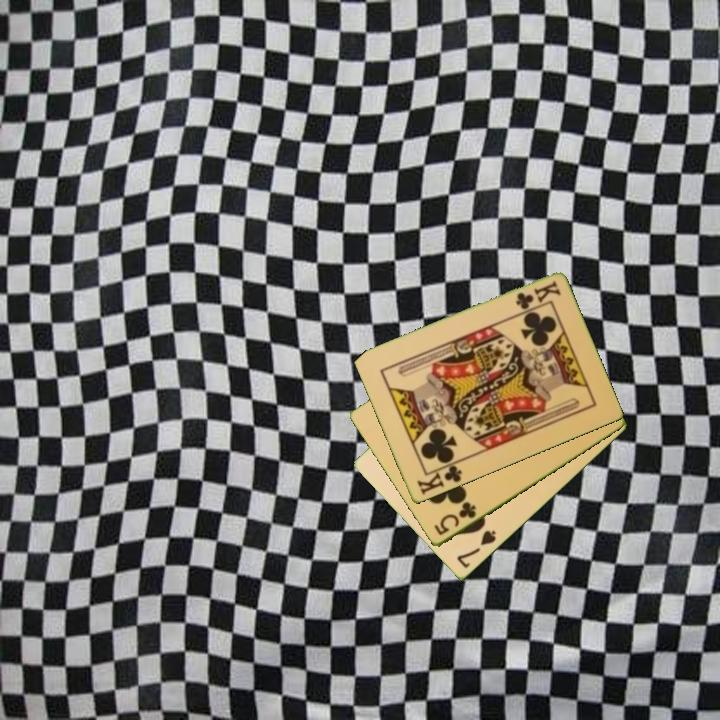5c: (430, 498, 479, 539)
7s: (453, 527, 499, 571)
Kc: (413, 458, 465, 498), (512, 277, 564, 313)
